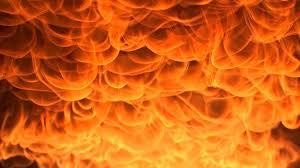fire: (16, 2, 300, 164)
